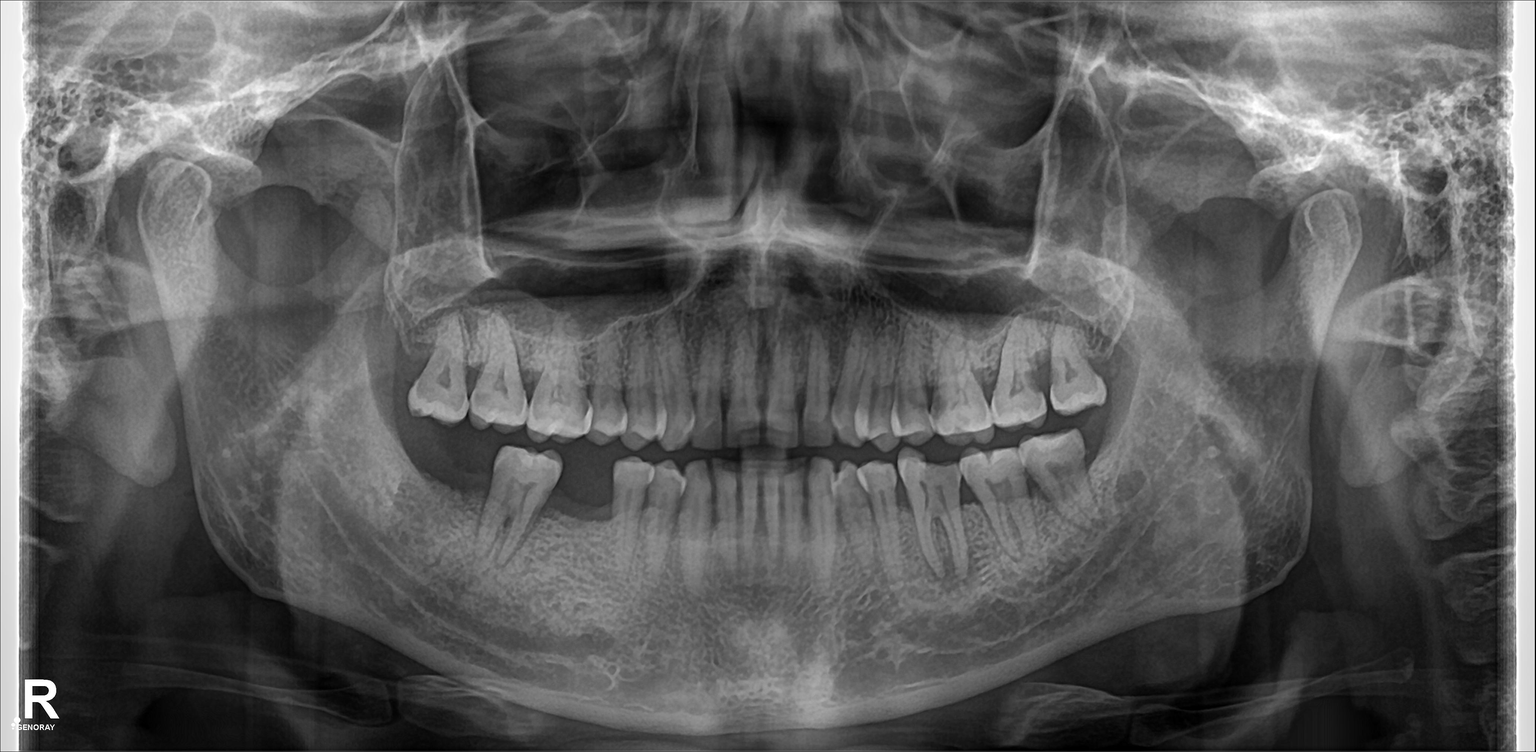Missing Tooth: (561, 462, 609, 551), (443, 434, 484, 529), (408, 424, 438, 527)
